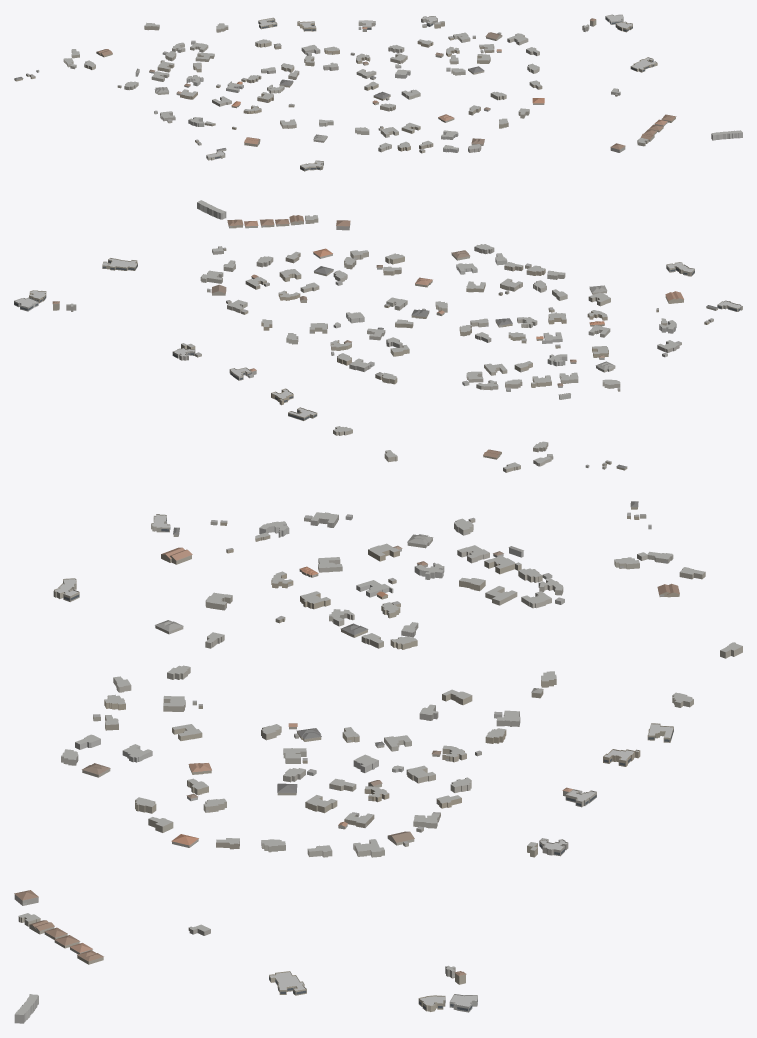
The model's file is buildings_r0_c0.glb.
3 renders of one model, top to bottom at view 1: azimuth 30°, elevation 25°; view 2: azimuth 150°, elevation 25°; view 3: azimuth 270°, elevation 25°, orthographic. The views are drawn at different scales.
Visible parts, largest first — view 1: buildings_r0_c0; view 2: buildings_r0_c0; view 3: buildings_r0_c0.
Part boxes in pixels (box(x1,y1,x2,y2)): buildings_r0_c0: box(14, 14, 742, 171); buildings_r0_c0: box(14, 200, 742, 472); buildings_r0_c0: box(14, 501, 742, 1023).
Bounding box in the file's own units: 1141 × 144 × 783.
